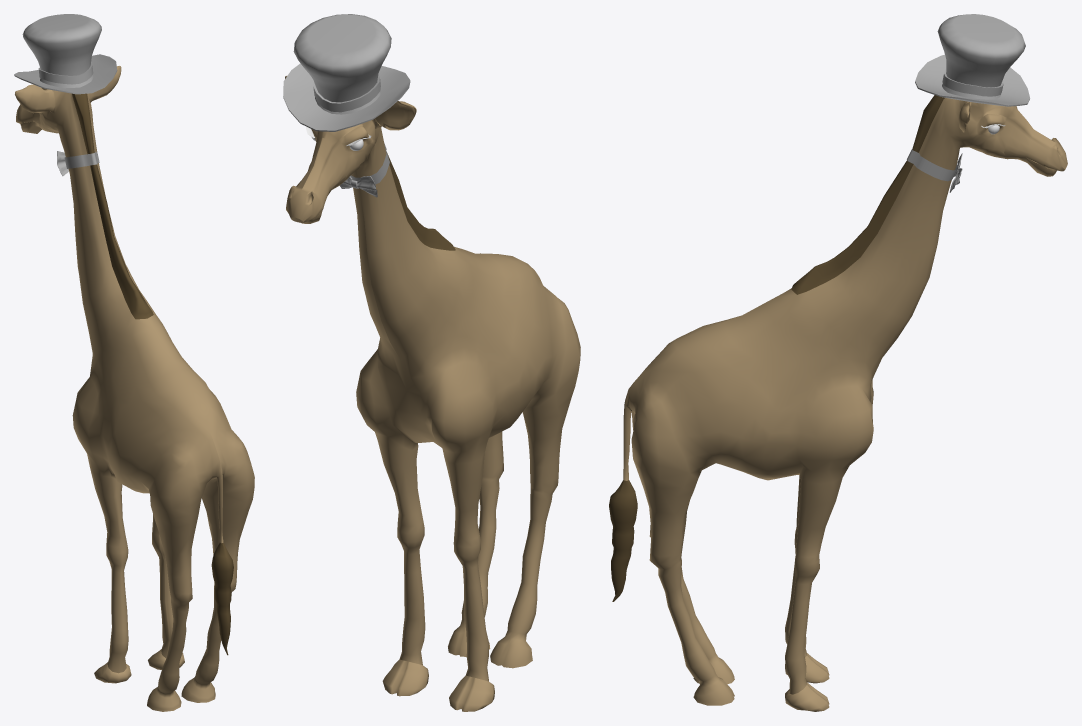
The model's file is CartoonGiraffe.fbx.
3 renders of one model, left to right at view 1: azimuth 30°, elevation 25°; view 2: azimuth 150°, elevation 25°; view 3: azimuth 270°, elevation 25°, orthographic. The views are drawn at different scales.
Visible parts, largest first — view 1: Giraffe2, pCylinder117, pCylinder118, pTorus1; view 2: Giraffe2, pCylinder117, pCylinder118; view 3: Giraffe2, pCylinder117, pCylinder118.
Boxes of the visible parts, bbox=[...] form: Giraffe2: bbox=[15, 66, 254, 711]; pCylinder117: bbox=[22, 14, 101, 88]; pCylinder118: bbox=[14, 54, 117, 94]; pTorus1: bbox=[64, 151, 99, 168]; Giraffe2: bbox=[285, 76, 580, 711]; pCylinder117: bbox=[293, 14, 391, 114]; pCylinder118: bbox=[283, 63, 410, 131]; Giraffe2: bbox=[609, 95, 1067, 711]; pCylinder117: bbox=[937, 14, 1025, 99]; pCylinder118: bbox=[915, 54, 1029, 106].
Size of the model in its own units: 4.65 by 24.9 by 15.49.
